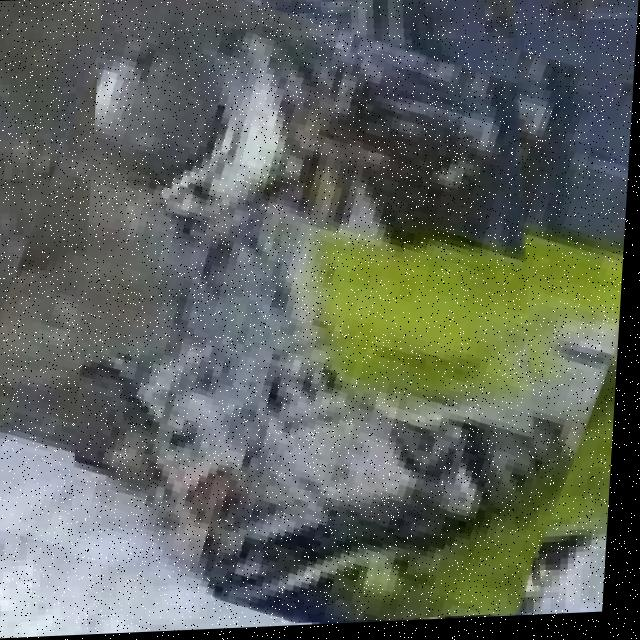can: (92, 0, 548, 625)
